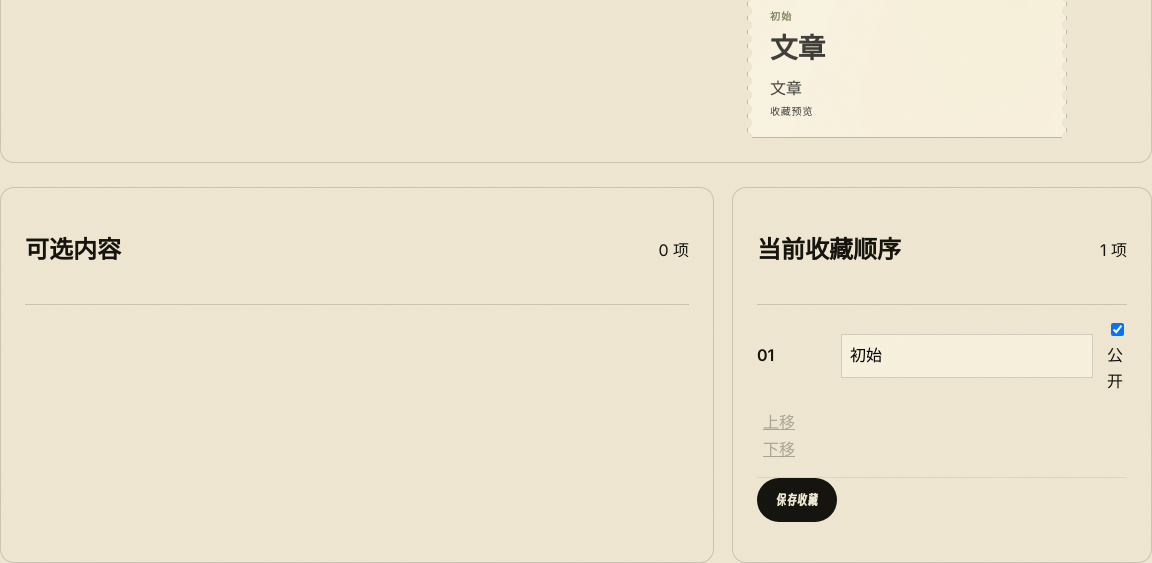
Test: AdminCollectionsPage draft hydration › keeps edits made during an outstanding write, and hydrates untouched sections
Later steps or results of the test are not shown.
(page scrolled)
Click the button "保存收藏" at (797, 500), box [757, 478, 837, 522]
Replace the text in the field named "第 1 项说明" with "等待时修改" at (967, 356), box [841, 334, 1093, 378]
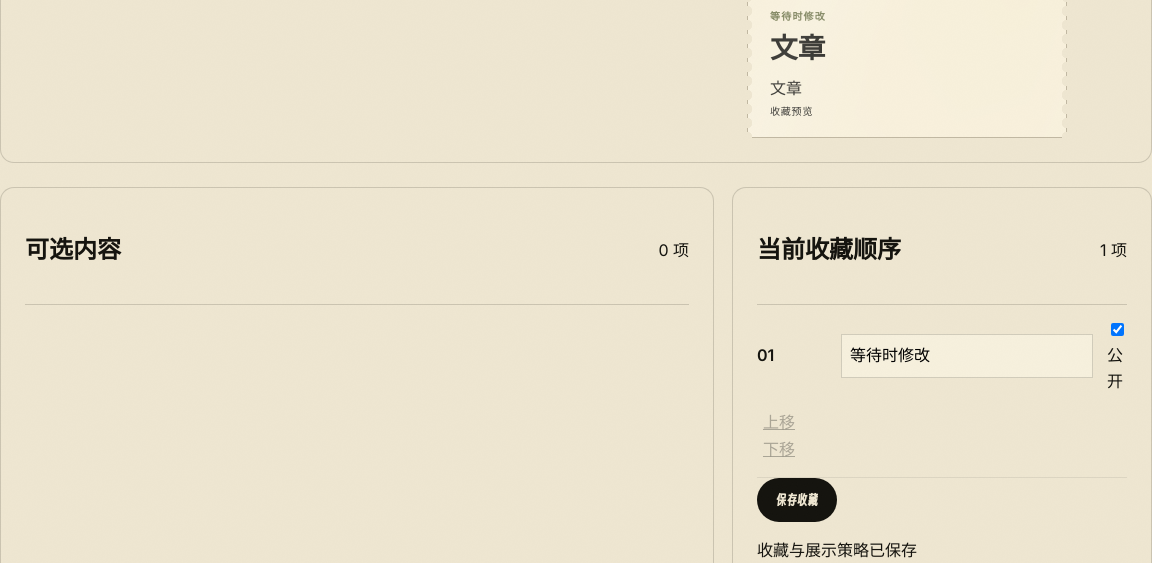
Now the text "收藏与展示策略已保存" is shown, box [757, 540, 917, 560]
